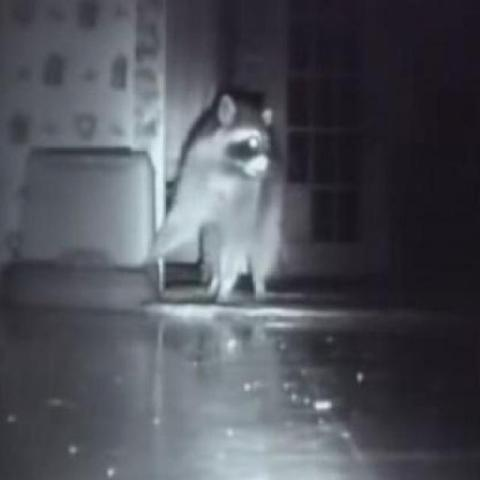small_animal: (146, 86, 286, 304)
